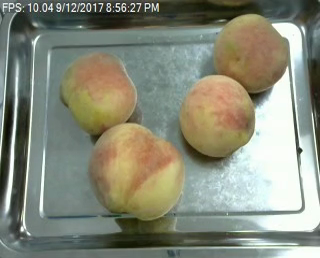Peach: (88, 121, 184, 220), (60, 50, 138, 134), (179, 73, 256, 158), (212, 12, 289, 93)
